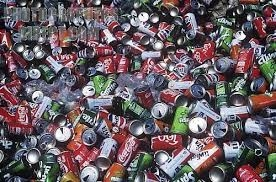metal: (184, 136, 228, 175), (128, 80, 163, 115), (93, 115, 130, 146), (88, 135, 118, 171), (168, 100, 196, 137), (115, 132, 142, 170), (225, 70, 252, 108), (177, 25, 214, 49), (148, 129, 186, 152), (253, 45, 276, 82), (208, 115, 235, 142), (32, 59, 58, 86), (205, 161, 237, 182), (185, 79, 208, 103), (21, 144, 46, 166), (180, 9, 202, 32), (150, 147, 172, 169), (26, 86, 47, 109), (36, 131, 59, 151), (125, 117, 149, 136), (185, 115, 210, 133), (47, 111, 70, 130), (129, 30, 153, 46), (52, 123, 73, 141), (79, 83, 99, 98), (10, 39, 26, 54)
